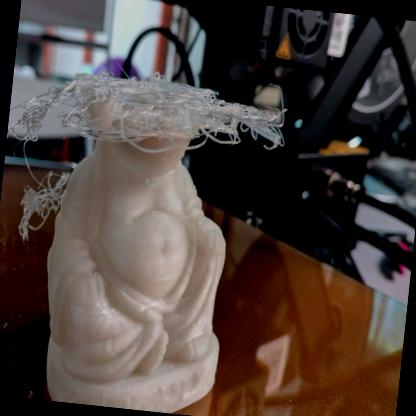fail: (62, 64, 292, 156), (1, 78, 73, 239)
